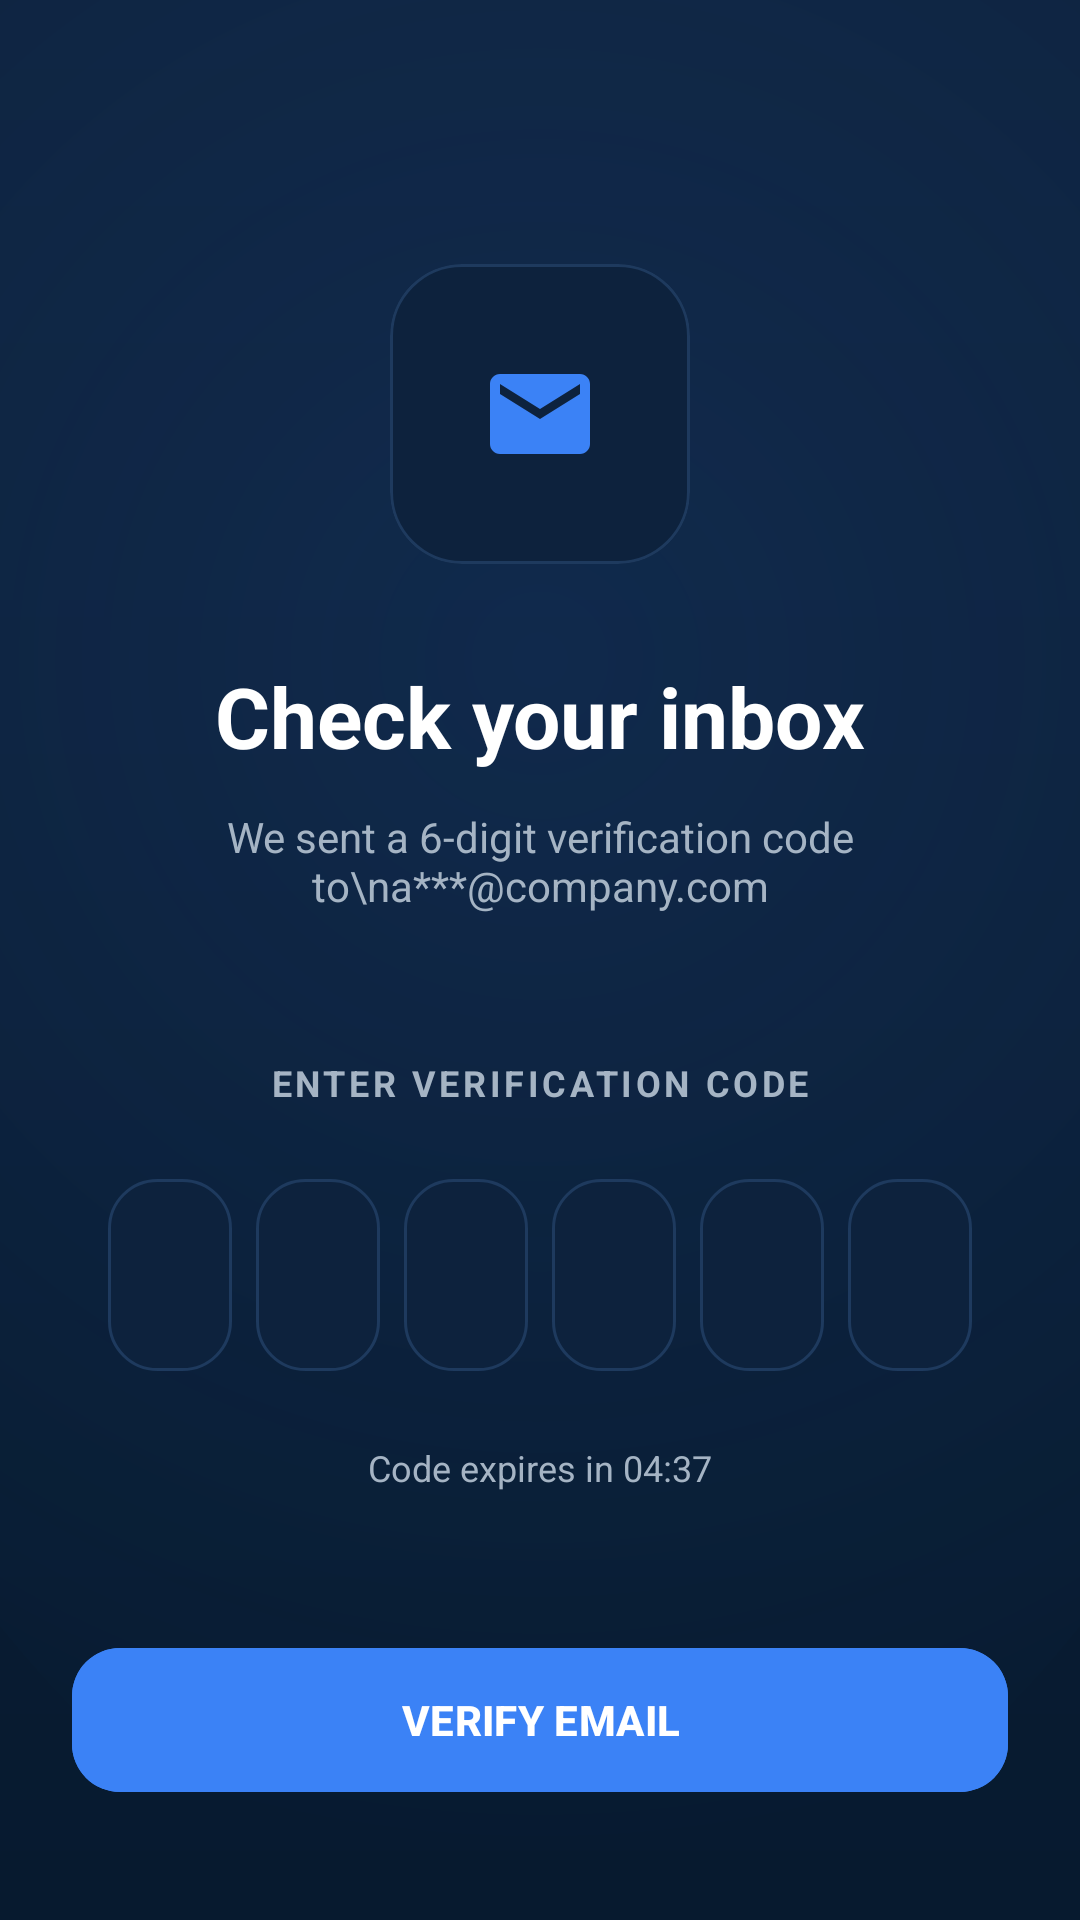

Icons on this 1080px x 1920px Android screen, each with its box as [left=x1, top=y1, right=x2, bottom=y2]:
email: [left=490, top=374, right=590, bottom=454]
